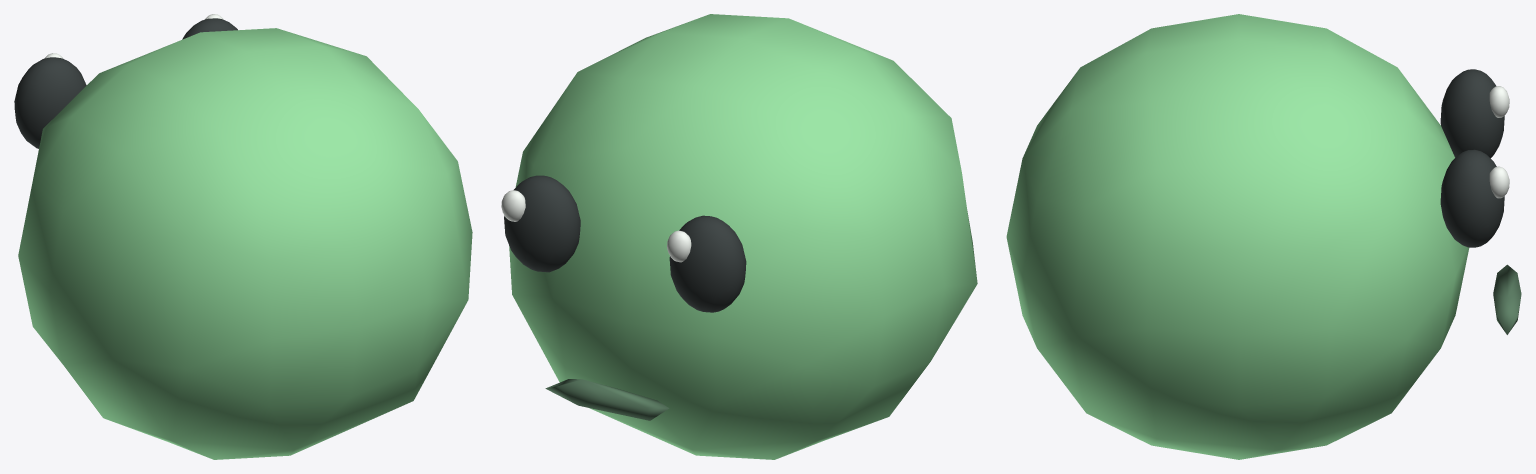
The model's file is mob_slime.glb.
3 views of the same model, side by side, from view 1: azimuth 30°, elevation 25°; view 2: azimuth 150°, elevation 25°; view 3: azimuth 270°, elevation 25° (orthographic). The views are drawn at different scales.
Parts seen in each view (by area): view 1: Slime; view 2: Slime; view 3: Slime.
Part boxes in pixels (x1,y1,x2,y2): Slime: (14,14,472,459); Slime: (501,14,977,459); Slime: (1006,14,1521,459).
Bounding box in the file's own units: 0.5373 × 0.5037 × 0.595.
